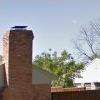Chimney: (5, 18, 37, 99)
